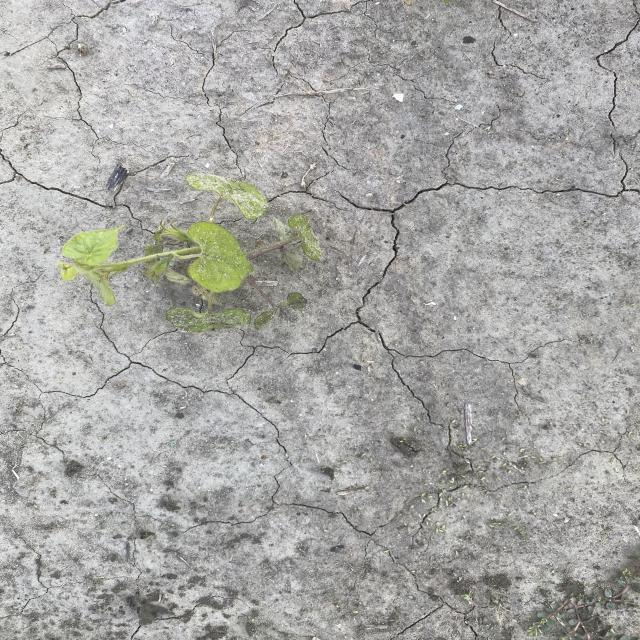MorningGlory: (55, 173, 328, 337)
